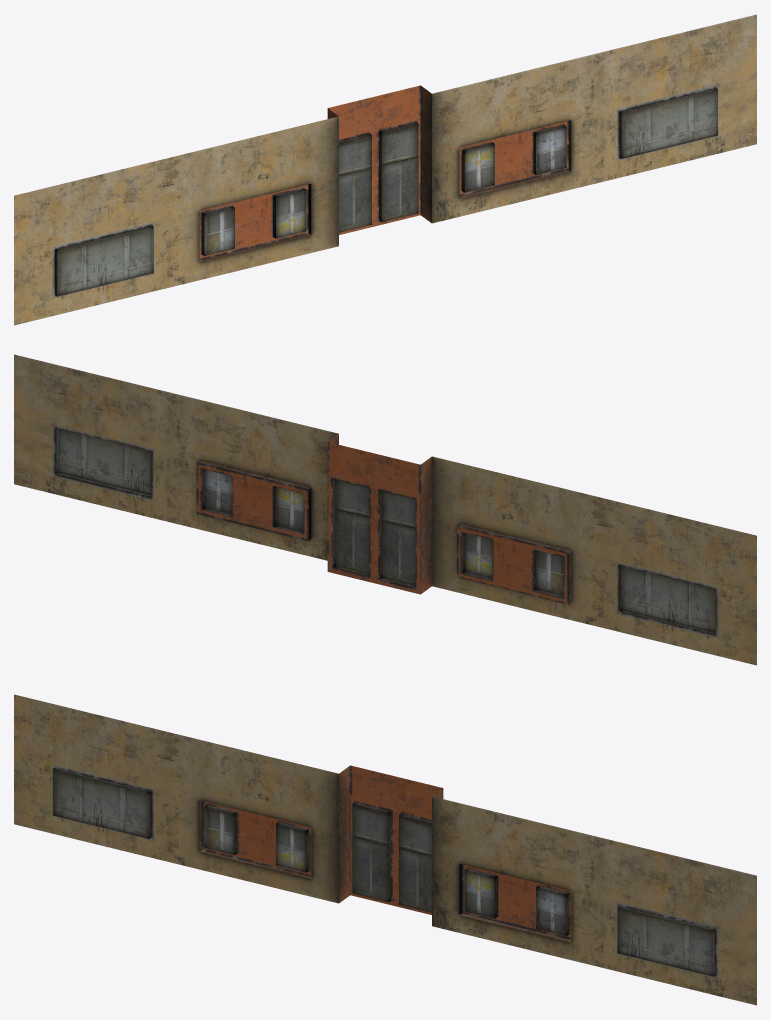
The model's file is Wall_T01.FBX.
3 views of the same model, one above another, from view 1: azimuth 30°, elevation 25°; view 2: azimuth 150°, elevation 25°; view 3: azimuth 330°, elevation 25° (orthographic).
Parts seen in each view (by area): view 1: Wall_T01; view 2: Wall_T01; view 3: Wall_T01.
Boxes of the visible parts, box(x1,y1,x2,y2) form: Wall_T01: box(14, 14, 756, 325); Wall_T01: box(14, 354, 756, 665); Wall_T01: box(14, 694, 756, 1005).
Bounding box in the file's own units: 3061 × 511 × 95.93.
